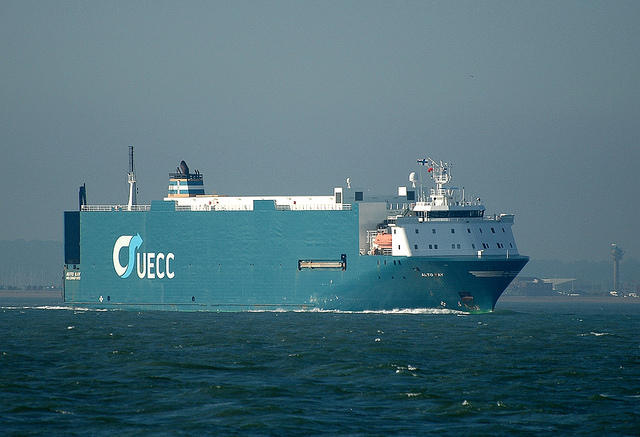PCC: (66, 150, 524, 311)
